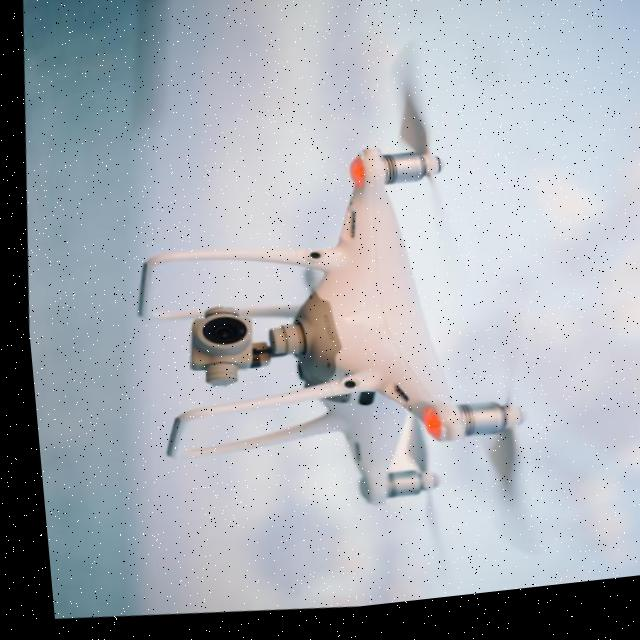drones: (88, 41, 569, 596)
